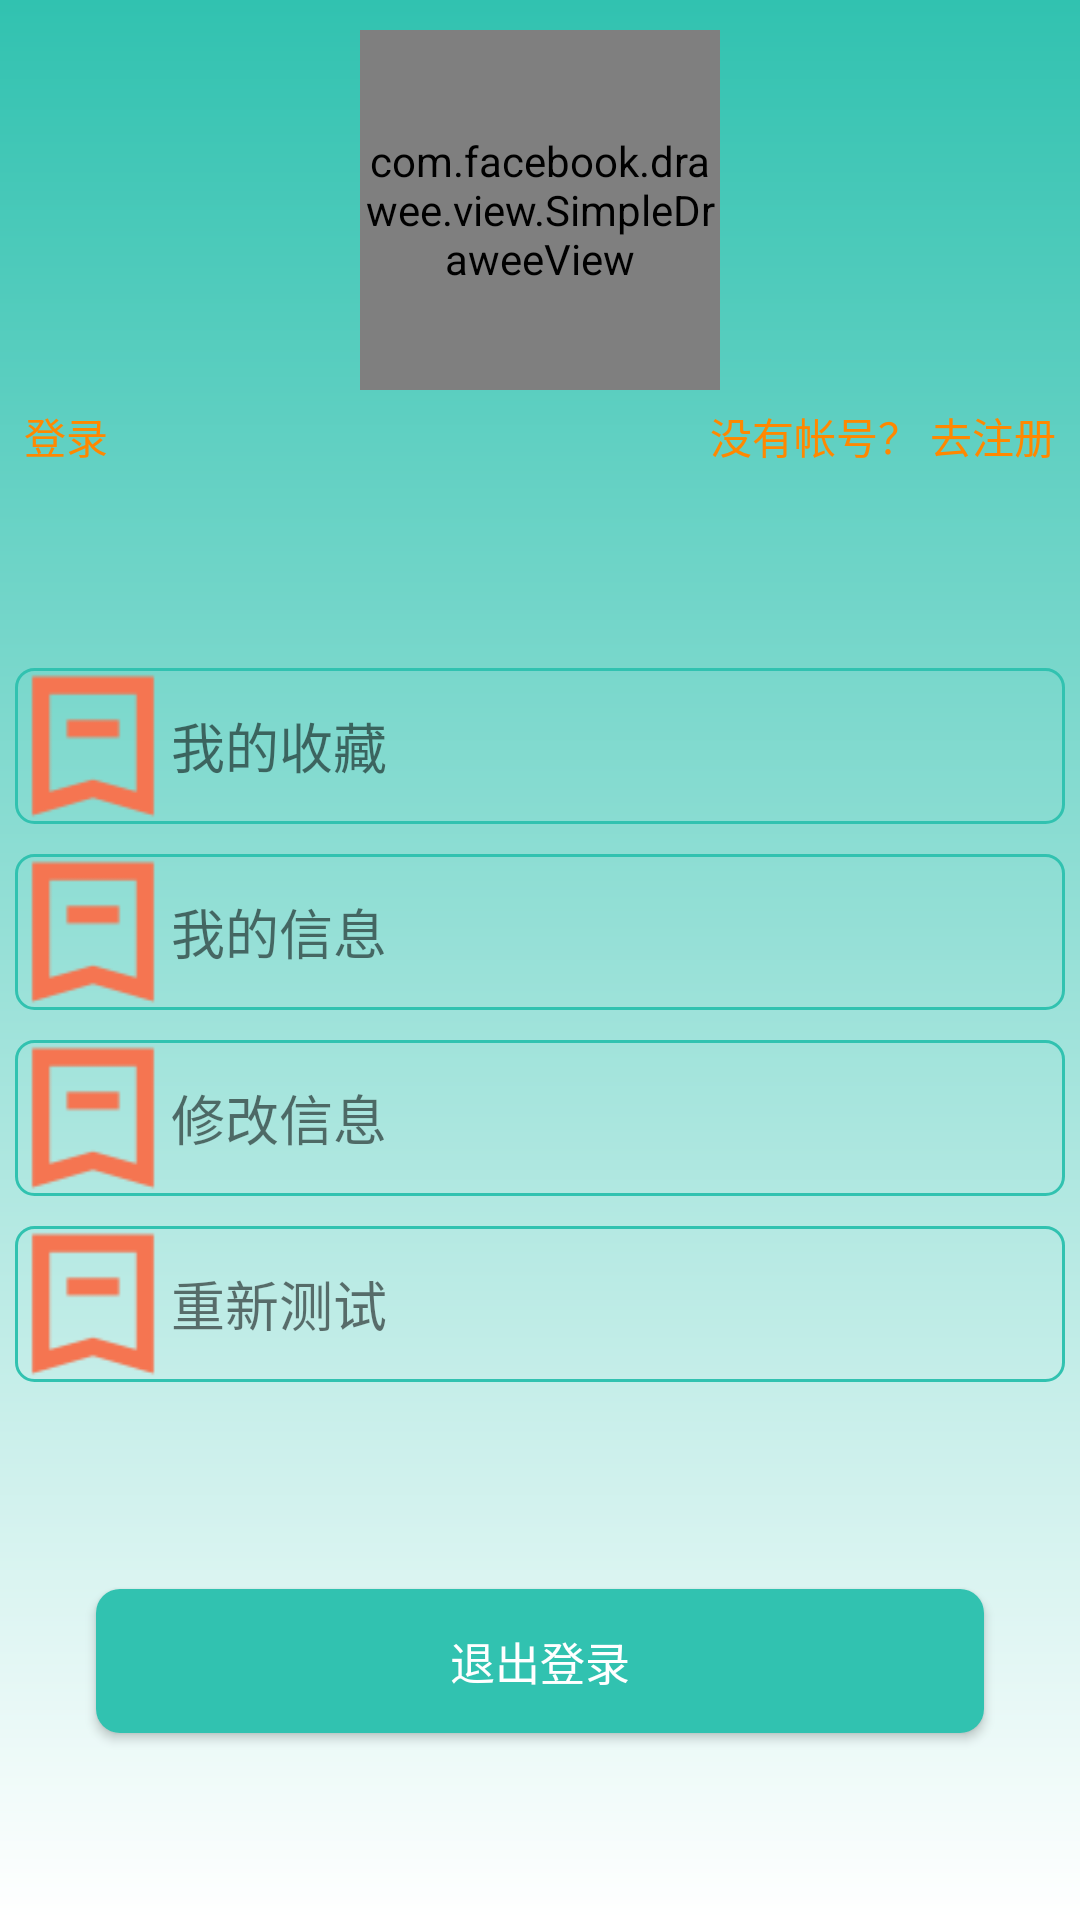

Screen size 1080w x 1920h. Icon name, then its center in pixels as [x,y]:
collection: [93,746], [93,932], [93,1118], [93,1304]
